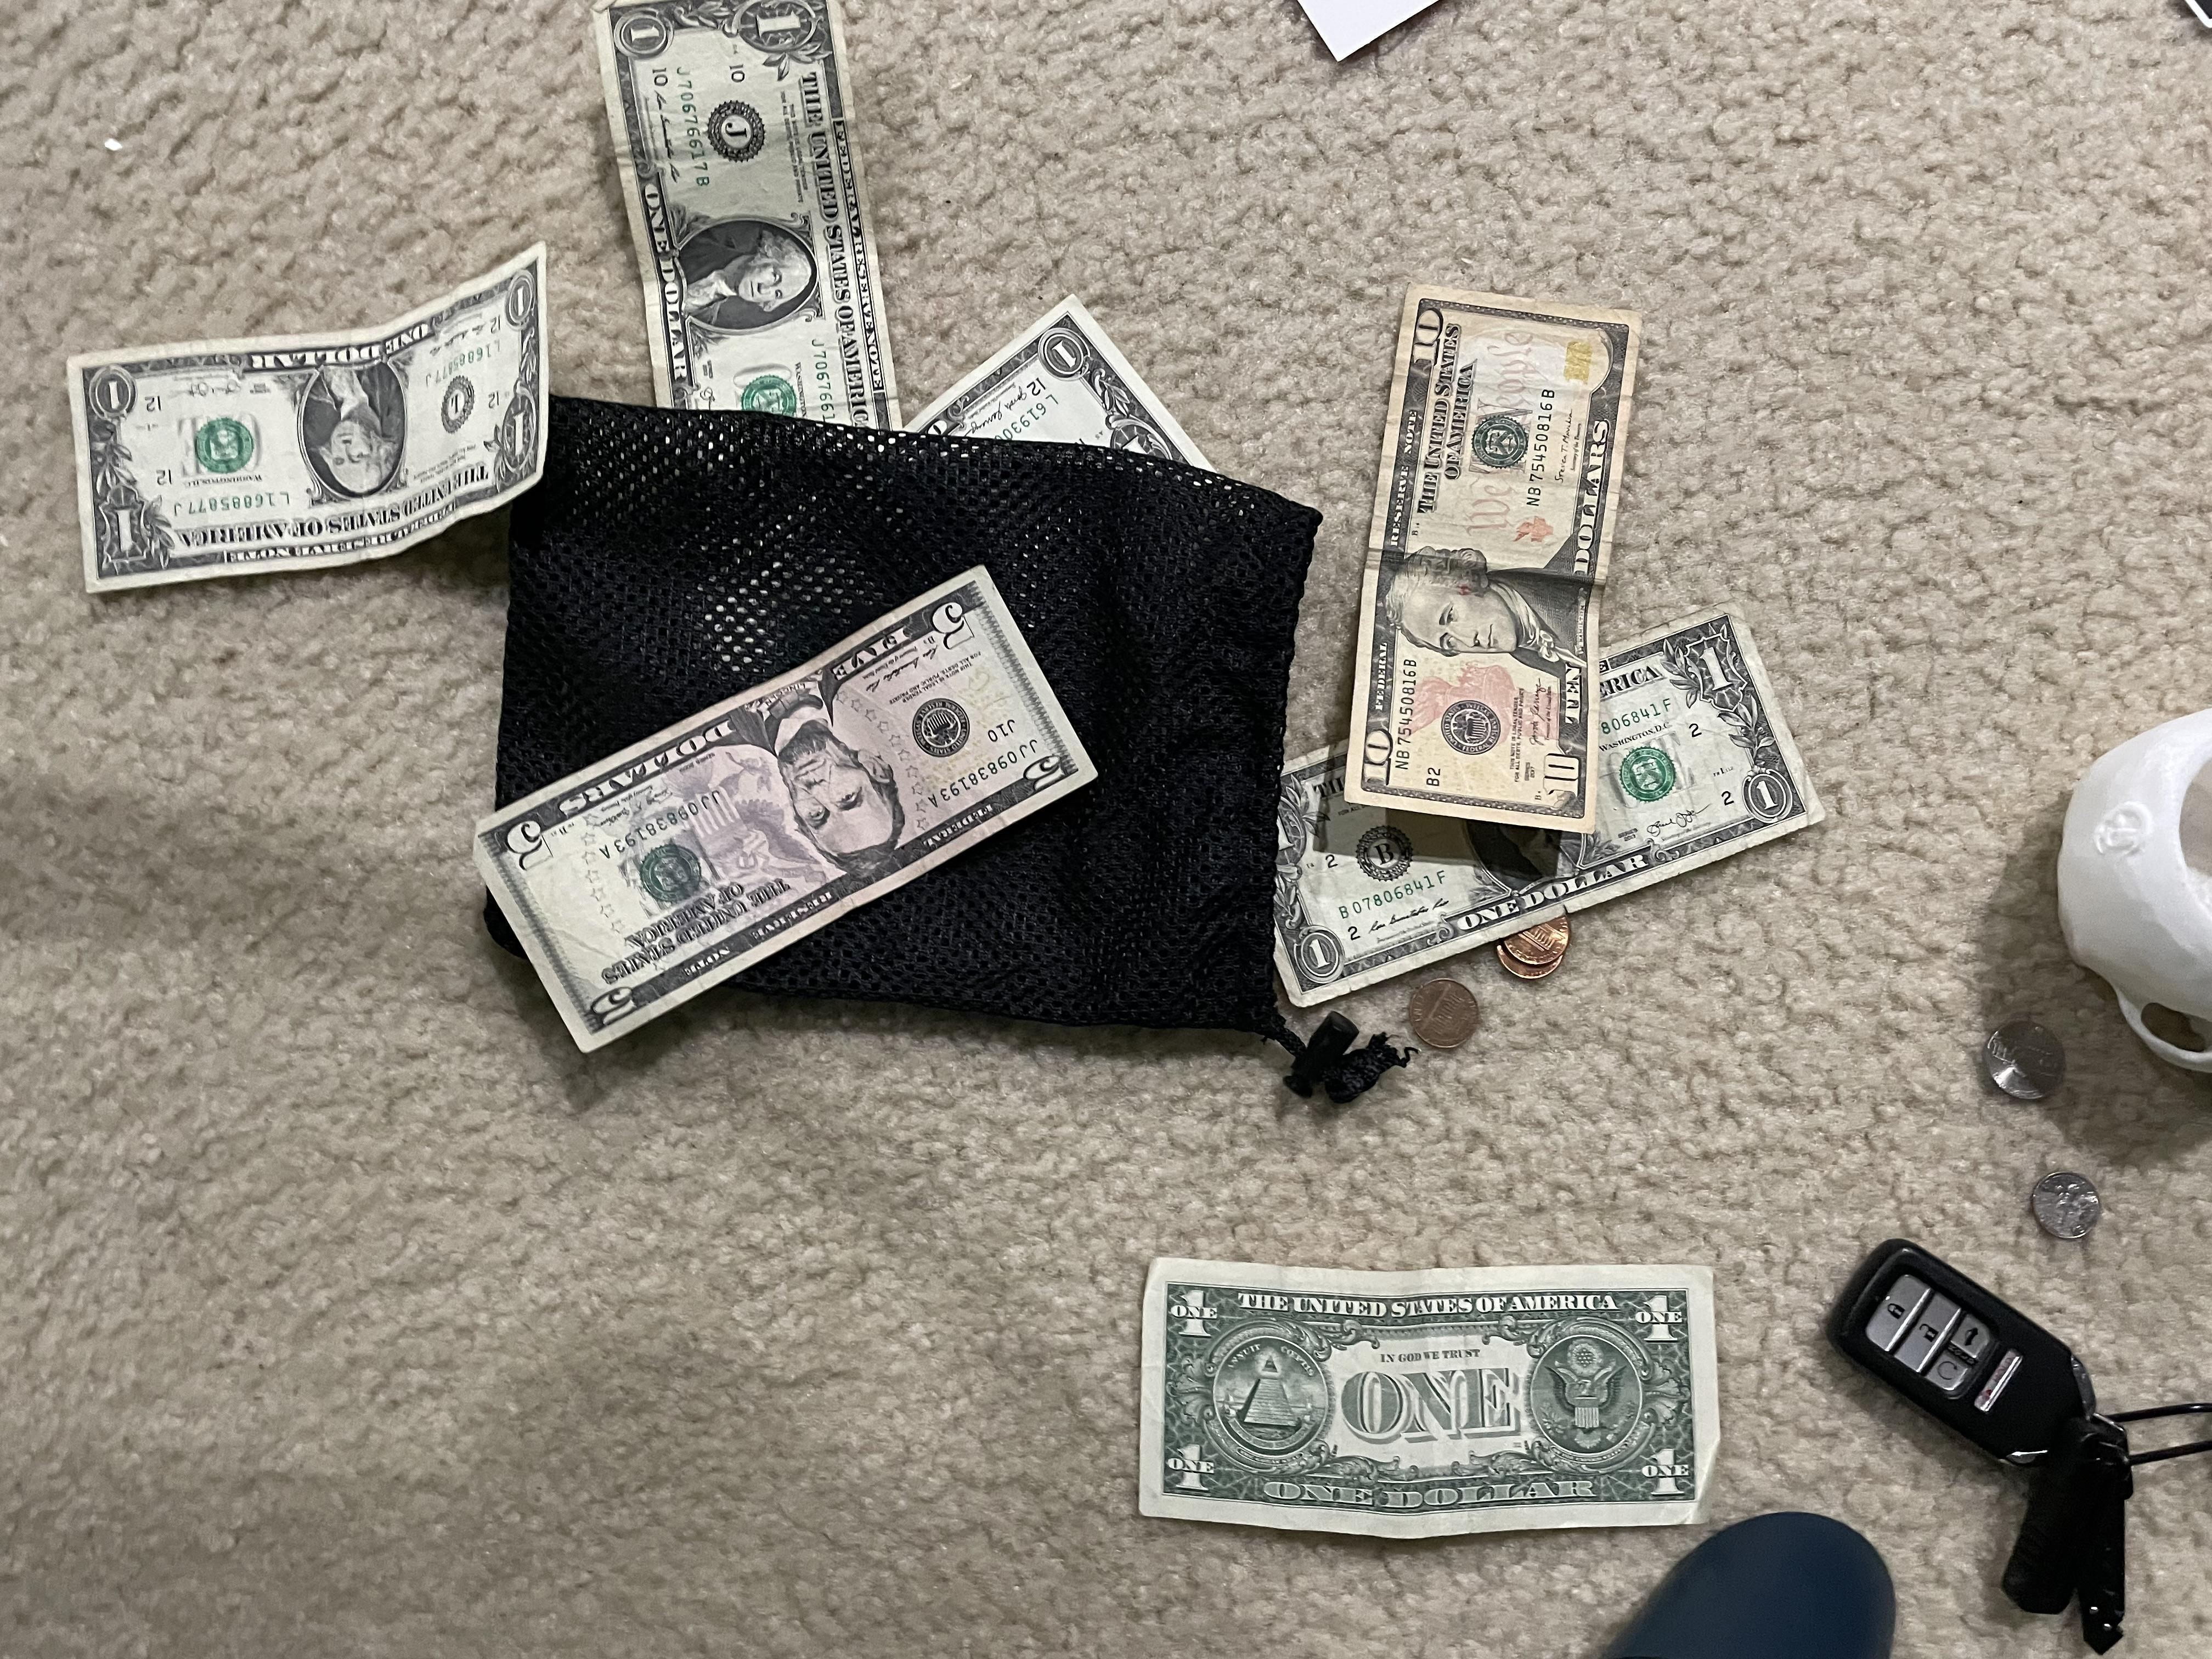Dime: (2017, 1164, 2113, 1241)
FiveBill: (477, 558, 1099, 1044)
Nickel: (1972, 1014, 2064, 1094)
OneBill: (1261, 619, 1834, 1011), (64, 240, 573, 594), (573, 2, 923, 498), (1127, 1251, 1726, 1530)
Penny: (1404, 976, 1482, 1065), (1500, 901, 1590, 971)
TenBill: (1331, 282, 1658, 835)
